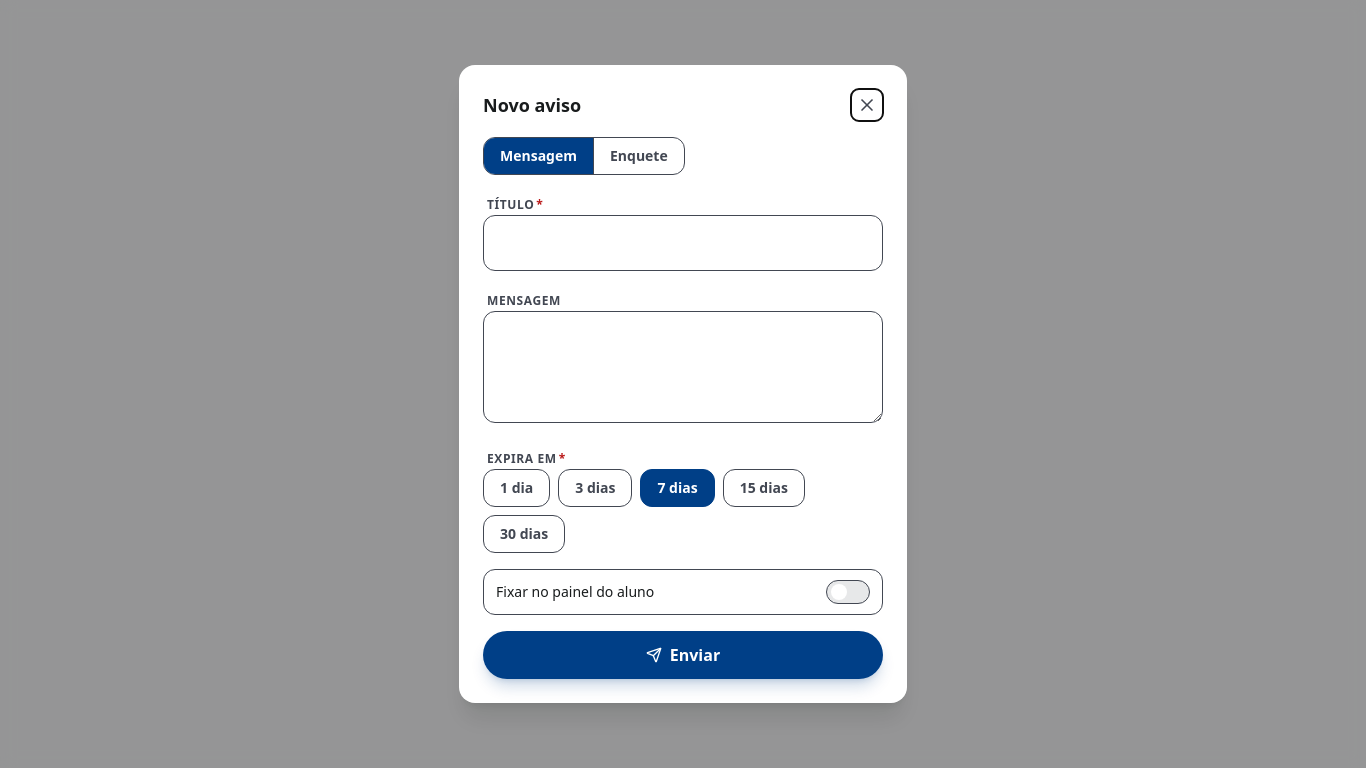
Test: CreateNoticeModal › alterna para type=poll esconde o campo body e mostra a lista de opções
This screenshot has width=1366, height=768.
Step 1. Click the radio button labelled "Enquete" → (638, 156), box [593,138,684,174]
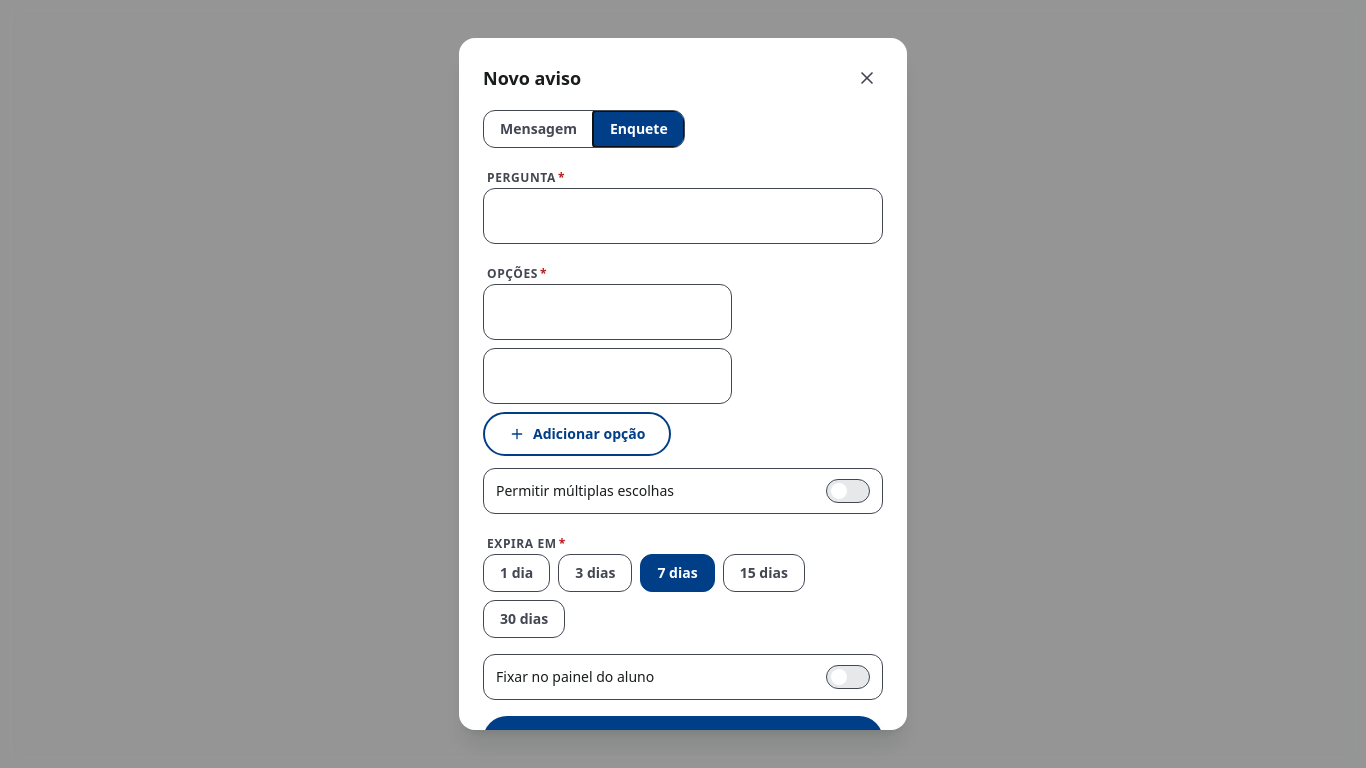
Result: the field named "Opção 1" is shown at [483,284,732,340]
Result: the field named "Opção 2" is shown at [483,348,732,404]
